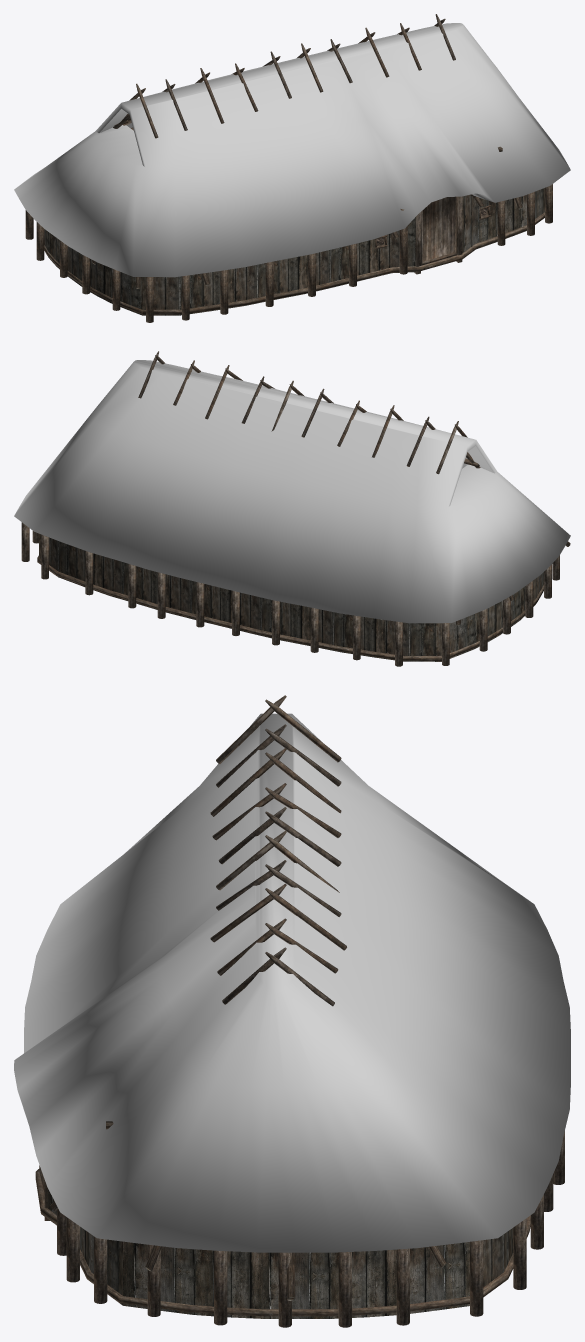
Rendered from house8.fbx.
The picture shows the model from 3 angles, top to bottom: view 1: azimuth 30°, elevation 25°; view 2: azimuth 150°, elevation 25°; view 3: azimuth 270°, elevation 25°; orthographic projection. The views are drawn at different scales.
Visible parts, largest first — view 1: roof1, wall, wood1, door; view 2: roof1, wall, wood1; view 3: roof1, wood1, wall.
Boxes of the visible parts, bbox=[...] form: roof1: bbox=[14, 23, 570, 277]; wall: bbox=[44, 188, 544, 315]; wood1: bbox=[25, 14, 552, 322]; door: bbox=[421, 196, 457, 265]; roof1: bbox=[14, 360, 570, 623]; wall: bbox=[39, 533, 543, 661]; wood1: bbox=[21, 351, 570, 666]; roof1: bbox=[14, 713, 570, 1252]; wood1: bbox=[35, 695, 564, 1327]; wall: bbox=[47, 1188, 513, 1318].
Size of the model in its own units: 491 by 187 by 297.
